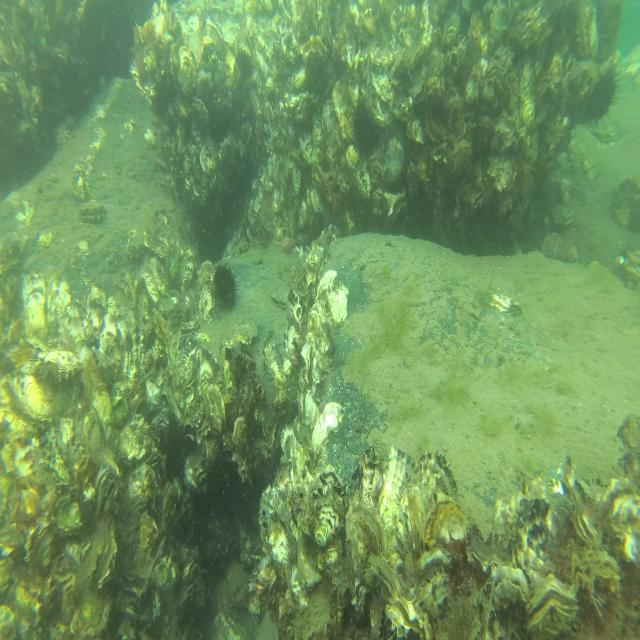echinus: (587, 72, 620, 129), (352, 107, 378, 159), (211, 262, 238, 310), (235, 47, 253, 78)
